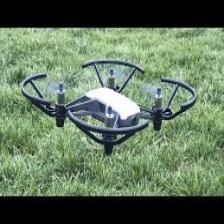drone: (22, 56, 196, 147)
